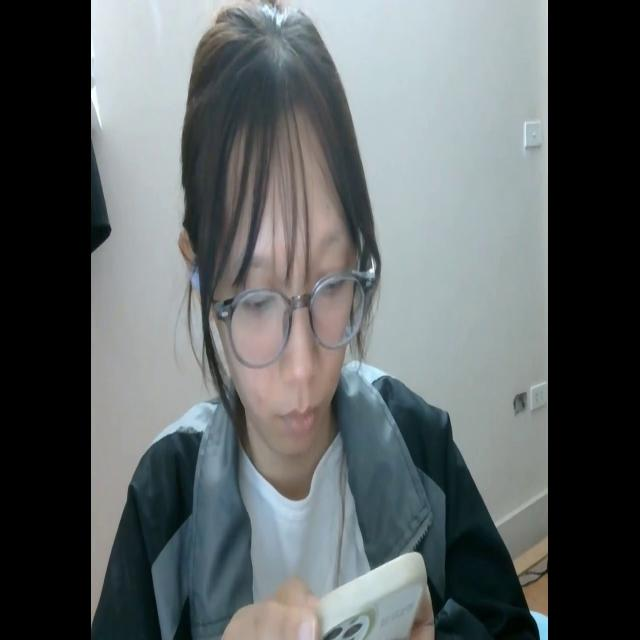phone: (289, 543, 425, 640)
student: (103, 10, 534, 640)
